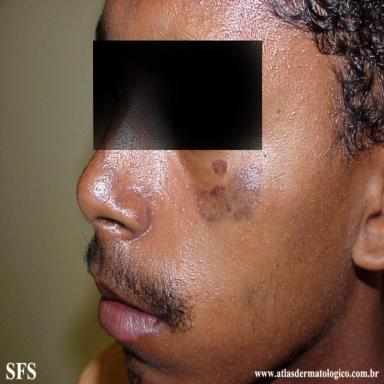Lupus-Erythematosus-Chronicus-Discoides: (195, 163, 261, 221), (212, 159, 227, 176)
